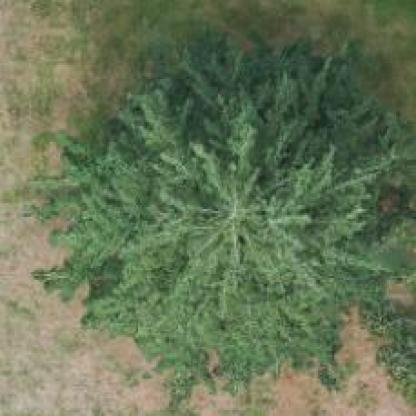Coniferous Tree: (36, 35, 416, 392)
